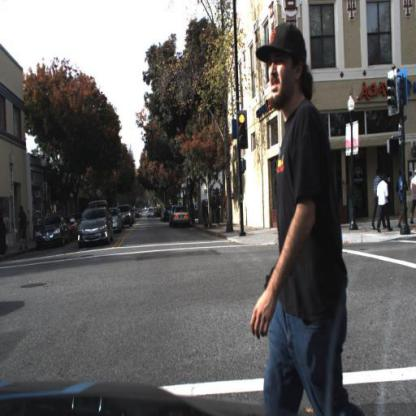car: (79, 205, 112, 254), (38, 216, 70, 248), (171, 204, 194, 231)
pedestrian: (260, 29, 349, 416), (396, 169, 409, 237), (373, 168, 384, 231), (378, 176, 389, 236), (17, 206, 30, 254), (214, 194, 222, 230)
trafficLight: (237, 110, 249, 150)
